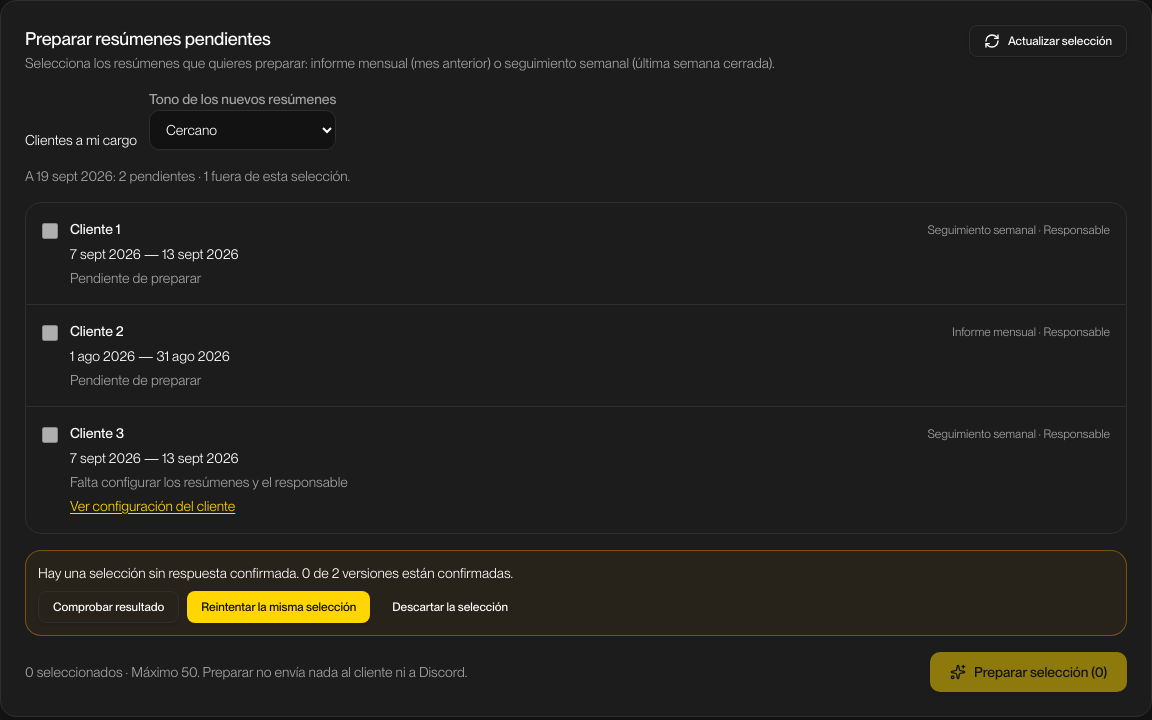
Test: discards a stuck selection after checking that its versions never got created
Expected: the text "0 de 2 versiones están confirmadas" is shown, [302,565,513,581]
Step 1. Click the button "Descartar la selección" → (450, 607), box [378,591,522,623]
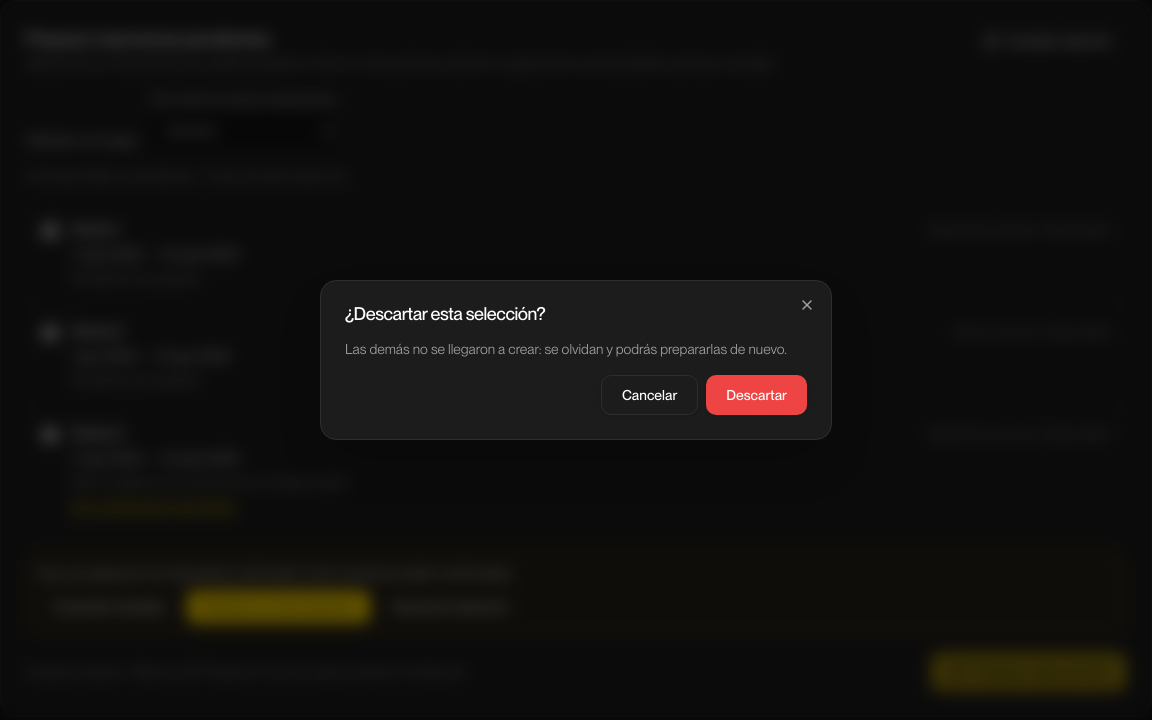
Step 2. Click the button "Descartar" → (757, 395), box [706,375,807,415]
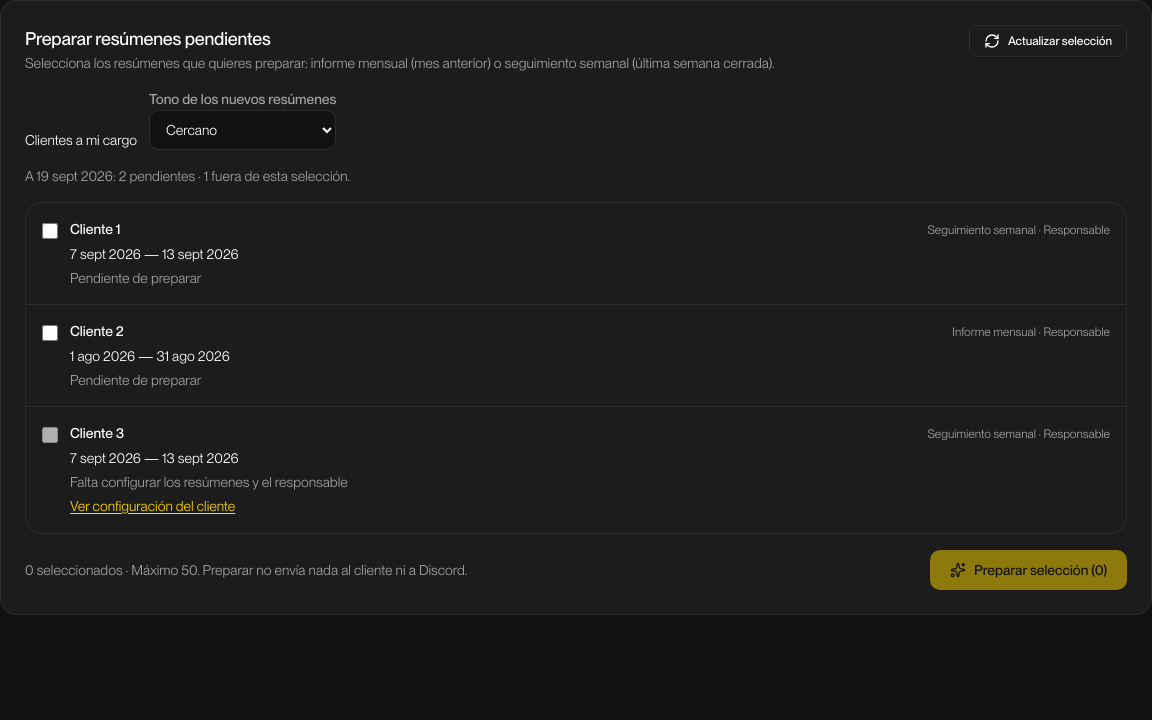
Now the text "sin respuesta confirmada" is gone
